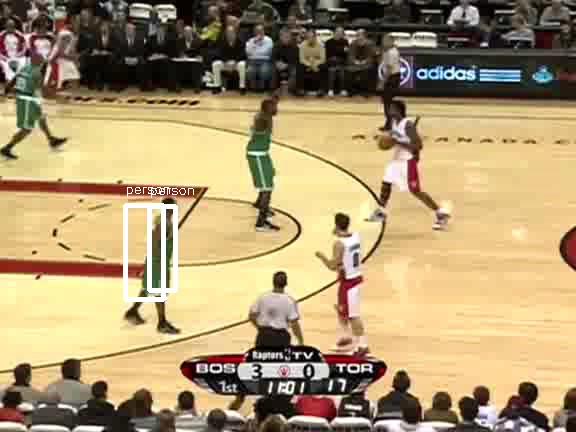person: (146, 214, 180, 295), (145, 214, 179, 295), (147, 214, 181, 295), (146, 213, 180, 294), (146, 215, 180, 296)
target_negative: (154, 347, 456, 392), (323, 190, 383, 384), (535, 123, 560, 387), (337, 369, 398, 397), (29, 329, 34, 428)
